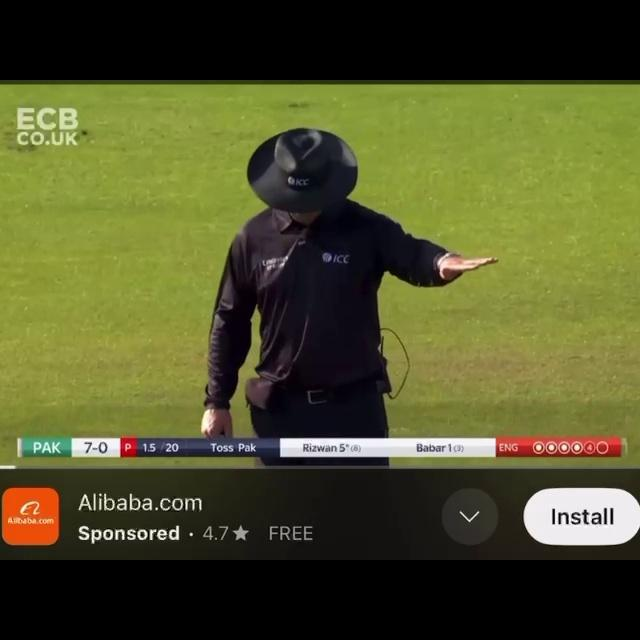umpire: (108, 99, 617, 414)
